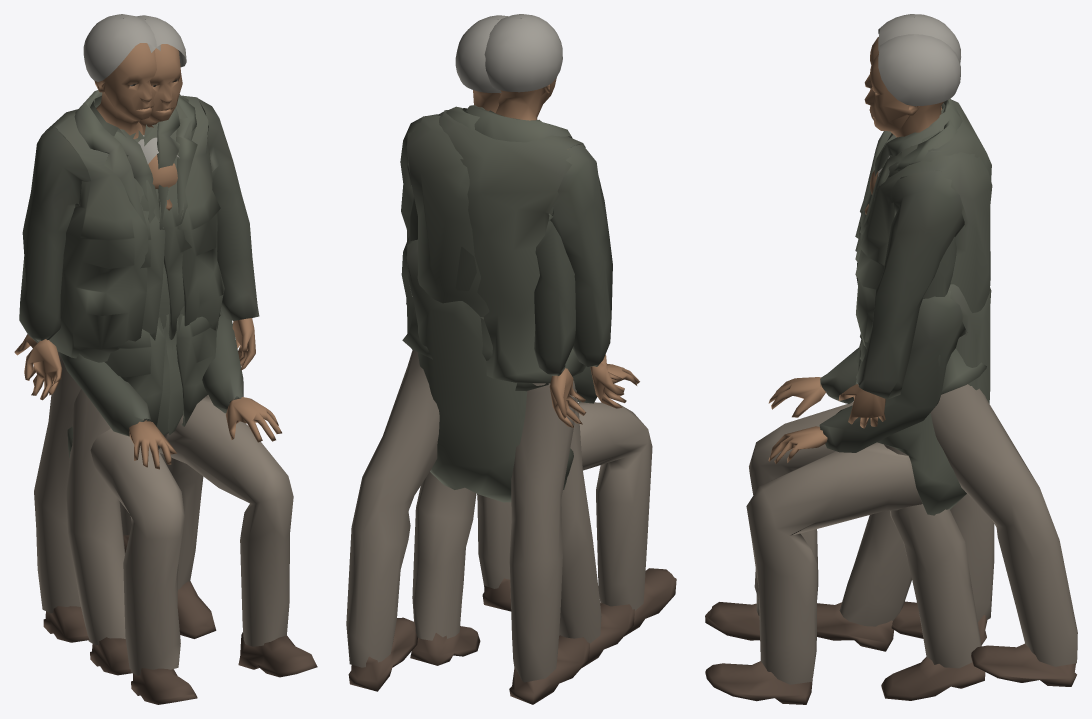
The model's file is crowd-04-crowd.glb.
3 renders of one model, left to right at view 1: azimuth 30°, elevation 25°; view 2: azimuth 150°, elevation 25°; view 3: azimuth 270°, elevation 25°, orthographic. The views are drawn at different scales.
Parts seen in each view (by area): view 1: standing, seated, walking; view 2: standing, walking, seated; view 3: walking, seated, standing.
Boxes of the visible parts, bbox=[...] form: standing: bbox=[19, 14, 216, 642]; seated: bbox=[59, 135, 317, 704]; walking: bbox=[14, 15, 259, 675]; standing: bbox=[406, 14, 626, 704]; walking: bbox=[346, 15, 634, 691]; seated: bbox=[401, 236, 676, 636]; walking: bbox=[817, 34, 1077, 686]; seated: bbox=[705, 156, 991, 704]; standing: bbox=[855, 14, 994, 700].
Bounding box in the file's own units: 0.6087 × 1.67 × 0.8773.
